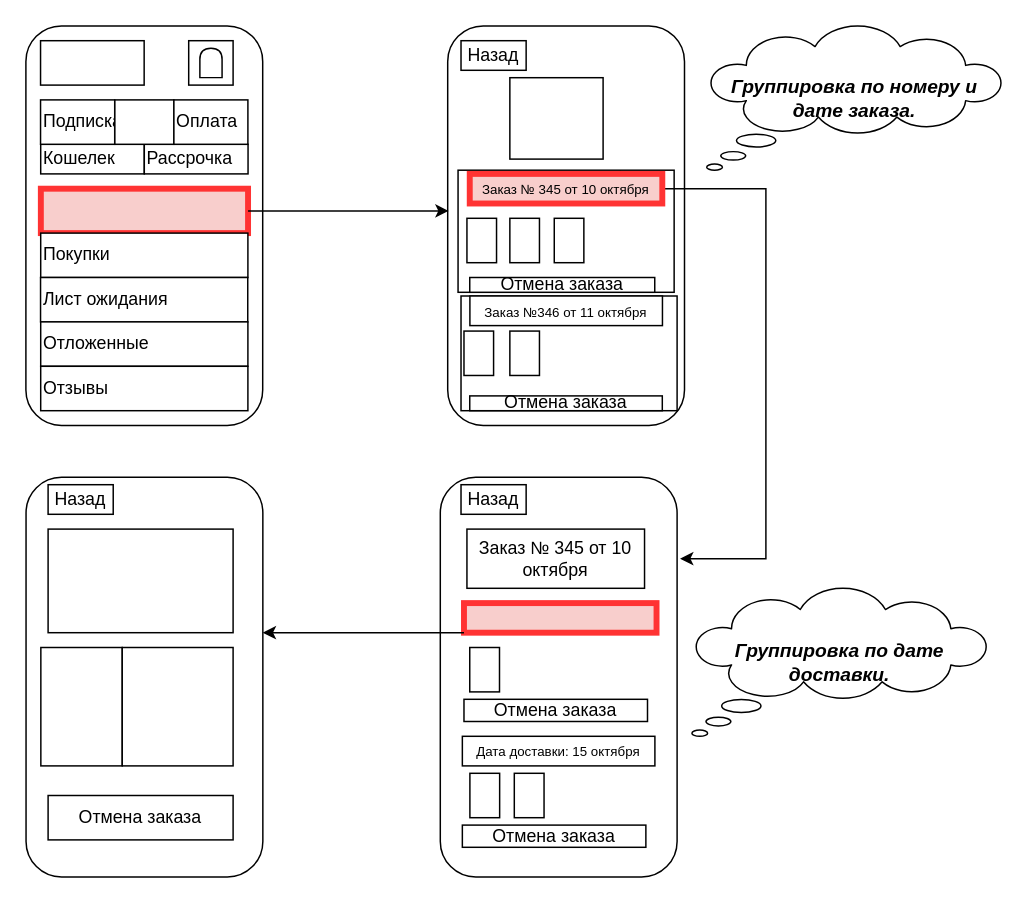
Image size: 1029x903. Some labels were removed from this diagram. Each missing label, with the centre of its shape:
QR-код для получения: the point at 555,117
Дата доставки: 14 октября: the point at 559,617
Доставки: the point at 143,210
Заказ №345 от 10 октября Дата доставки: 14 октября: the point at 140,580
Имя: the point at 91,62
Информация о товаре: the point at 177,706
Карточке о товаре: the point at 80,706
Скидка: the point at 143,121
